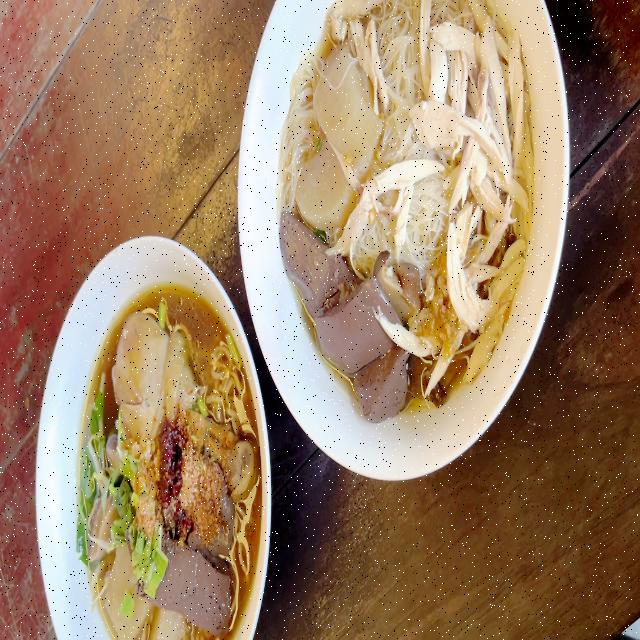boiled_chicken_blood_jelly: (157, 539, 239, 631), (279, 213, 347, 311), (320, 274, 390, 361), (354, 353, 412, 423)
chicken_drumstick: (113, 314, 257, 499)
chicken_shredded: (422, 0, 537, 350), (340, 144, 437, 246), (351, 10, 389, 103), (326, 0, 375, 45)
daikon_radish: (322, 48, 376, 177), (294, 126, 348, 220), (104, 548, 152, 640), (152, 602, 189, 640)
noodle: (282, 0, 526, 421), (75, 306, 265, 640)
